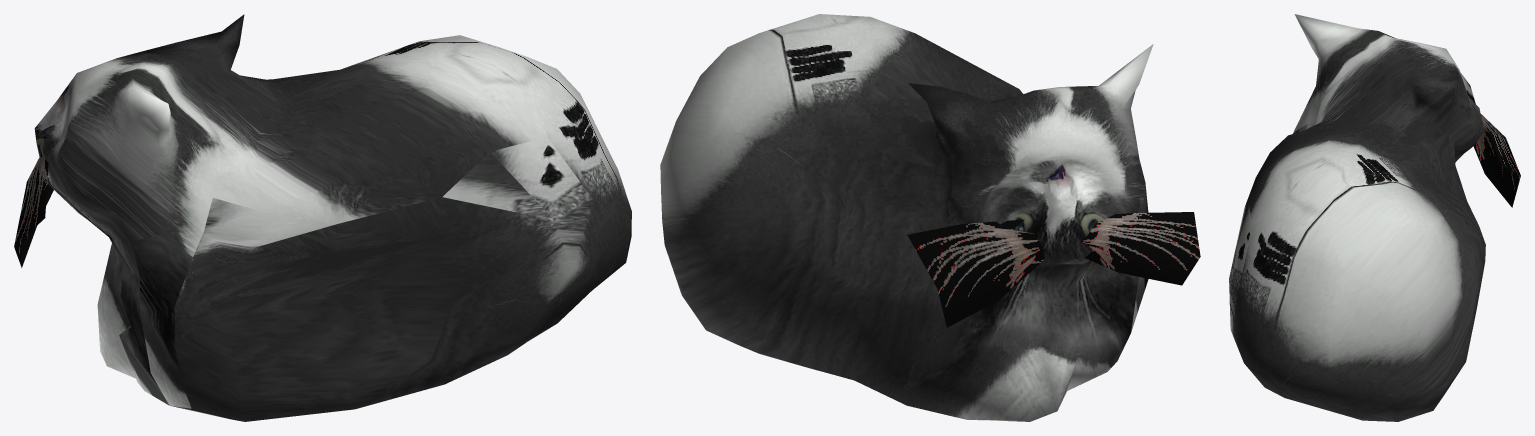
Rendered from vasilisa.obj.
3 renders of one model, left to right at view 1: azimuth 30°, elevation 25°; view 2: azimuth 150°, elevation 25°; view 3: azimuth 270°, elevation 25°, orthographic. The views are drawn at different scales.
Parts seen in each view (by area): view 1: dingus_dingus_0_dingus_dingus_0.001, dingus_whiskers_0_dingus_whiskers_0.001; view 2: dingus_dingus_0_dingus_dingus_0.001, dingus_whiskers_0_dingus_whiskers_0.001; view 3: dingus_dingus_0_dingus_dingus_0.001, dingus_whiskers_0_dingus_whiskers_0.001.
Boxes of the visible parts, <box> form: dingus_dingus_0_dingus_dingus_0.001: <box>34,14,631,421</box>; dingus_whiskers_0_dingus_whiskers_0.001: <box>14,153,53,267</box>; dingus_dingus_0_dingus_dingus_0.001: <box>660,14,1153,421</box>; dingus_whiskers_0_dingus_whiskers_0.001: <box>907,212,1200,327</box>; dingus_dingus_0_dingus_dingus_0.001: <box>1229,14,1485,421</box>; dingus_whiskers_0_dingus_whiskers_0.001: <box>1473,114,1520,207</box>.
Bounding box in the file's own units: 1.93 × 1.11 × 1.09.
